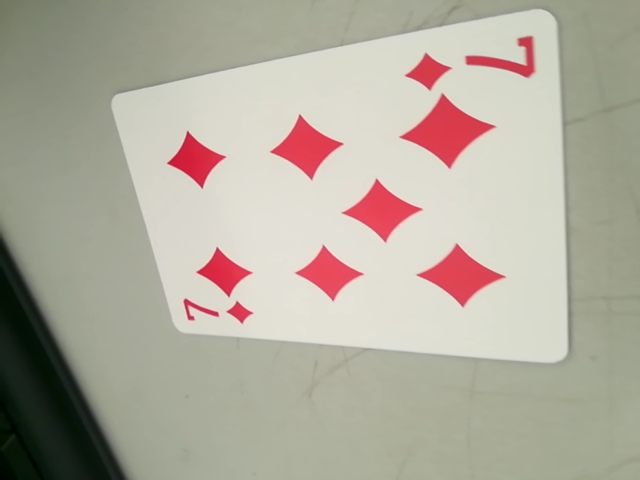fk 7: (410, 29, 542, 94), (175, 296, 255, 333)
